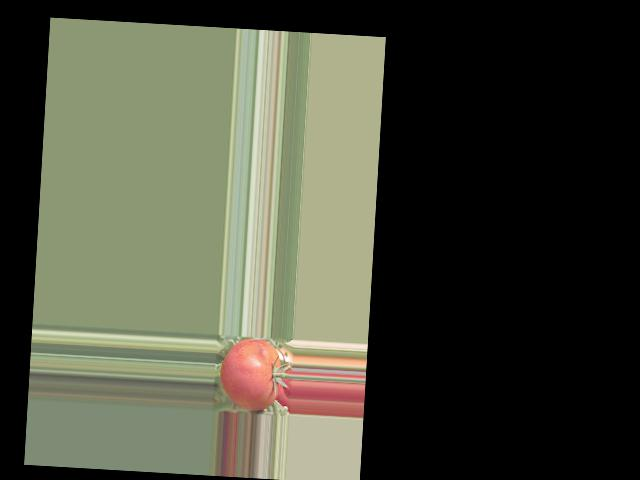tomato: (218, 336, 283, 411)
